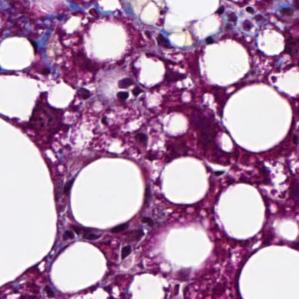inflammation: (227, 5, 264, 35), (114, 73, 148, 105)
